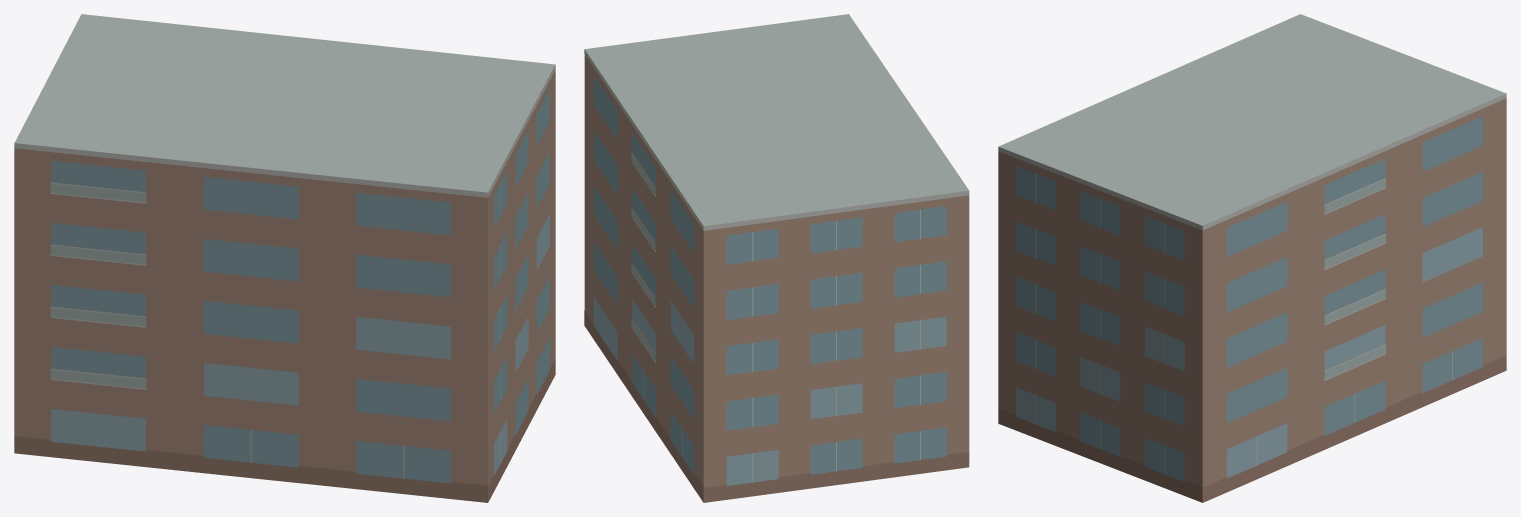
Rendered from survey-upis-32637873.glb.
The picture shows the model from 3 angles, left to right: view 1: azimuth 30°, elevation 25°; view 2: azimuth 150°, elevation 25°; view 3: azimuth 270°, elevation 25°; orthographic projection. The views are drawn at different scales.
Parts seen in each view (by area): view 1: survey-upis-32637873.tmp; view 2: survey-upis-32637873.tmp; view 3: survey-upis-32637873.tmp.
Part boxes in pixels (box(x1,y1,x2,y2)): survey-upis-32637873.tmp: box(14, 14, 555, 502); survey-upis-32637873.tmp: box(584, 14, 969, 502); survey-upis-32637873.tmp: box(998, 14, 1506, 502).
Size of the model in its own units: 23.96 by 14.6 by 24.29.
